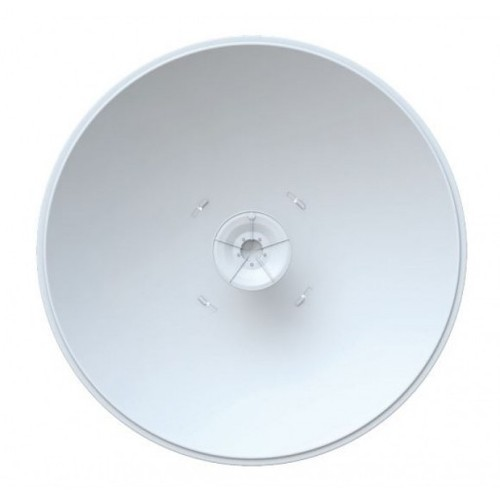ba: (20, 9, 477, 478)
